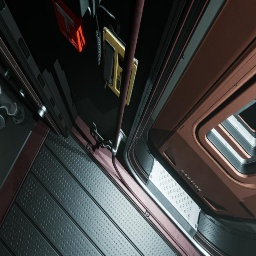EmergencyPhone ,: (95, 5, 140, 106)
FireAlarm ,: (52, 0, 86, 52)
